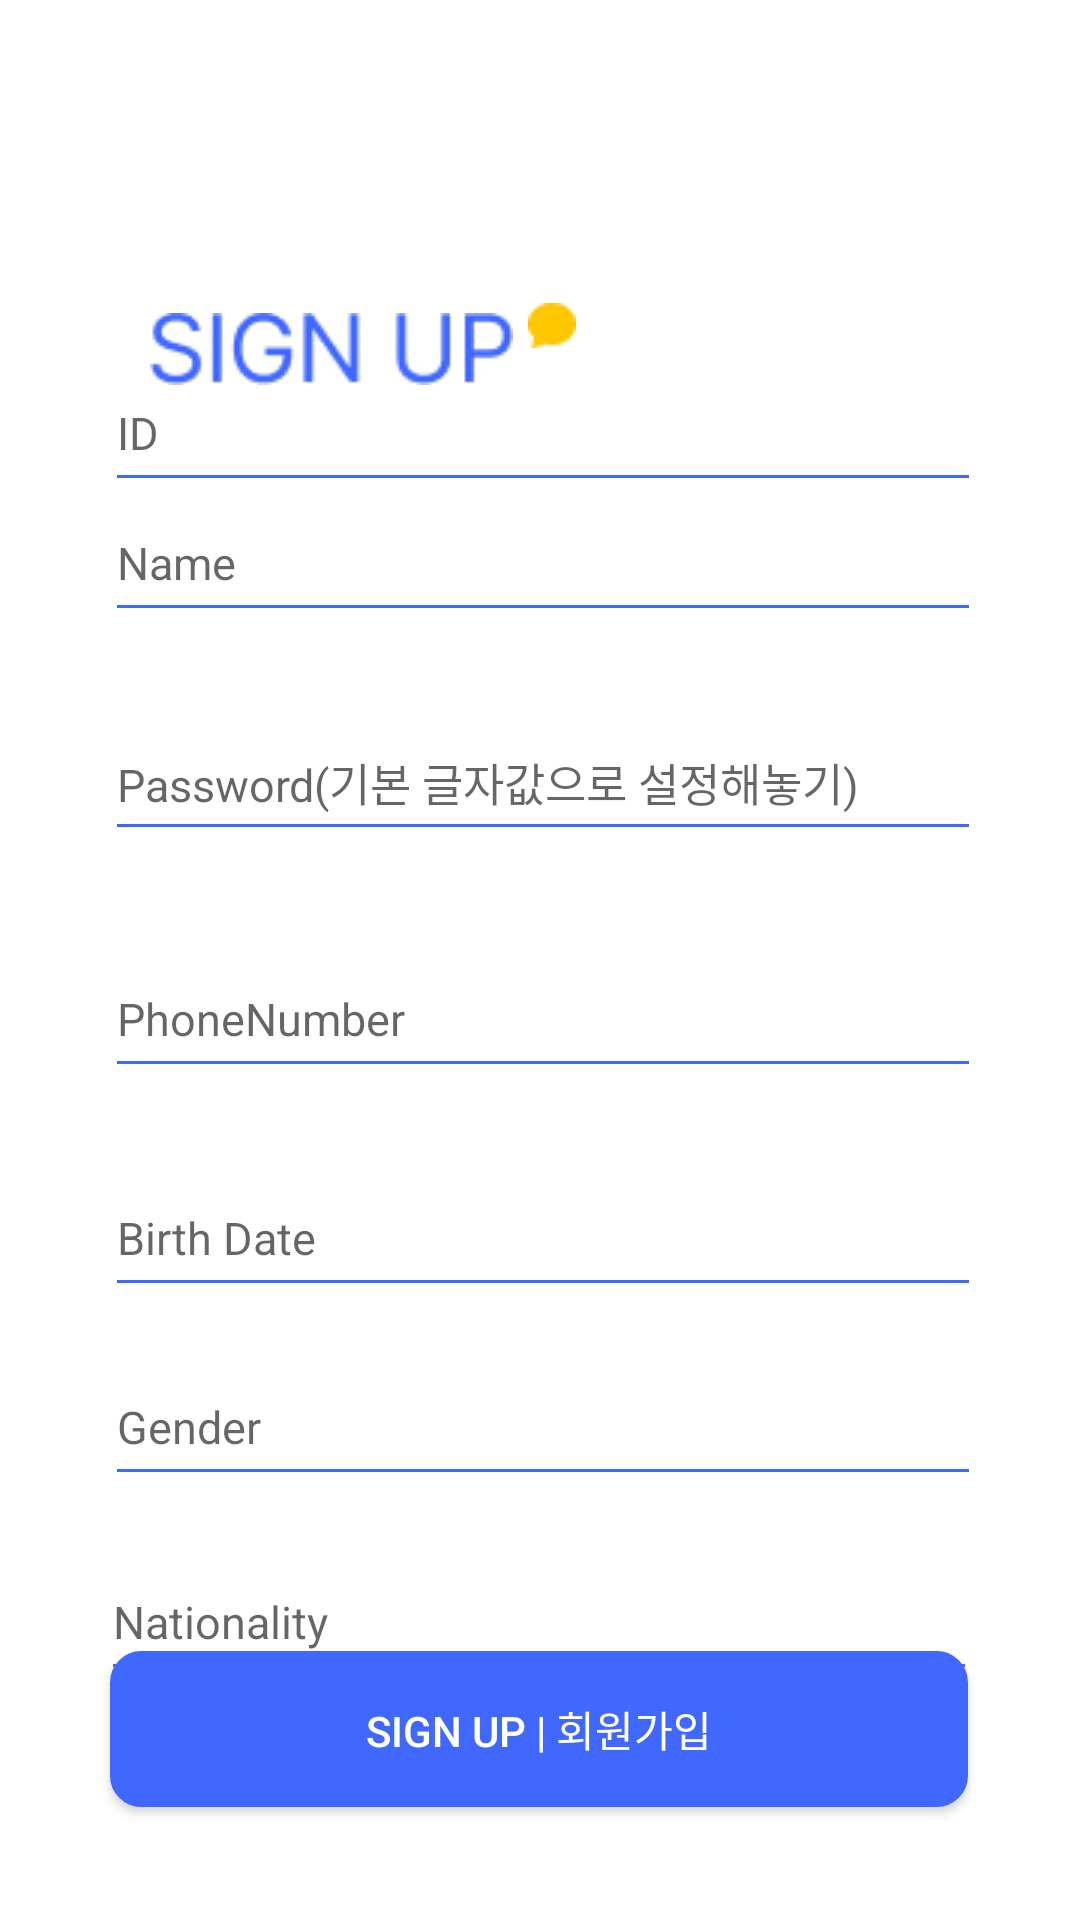

Where icons sit on this 1080px x 1920px app screen, as rect(x1, y1, x2, y2):
talkballoon: rect(528, 303, 576, 348)
